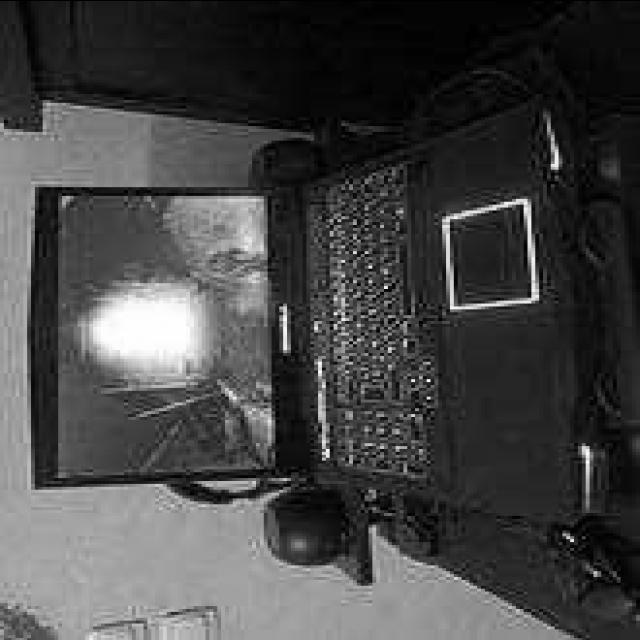laptop: (30, 147, 592, 505)
